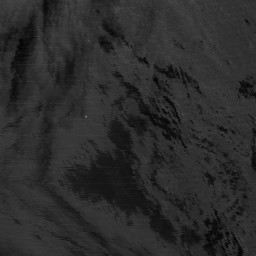Target: (83, 114, 88, 119)
